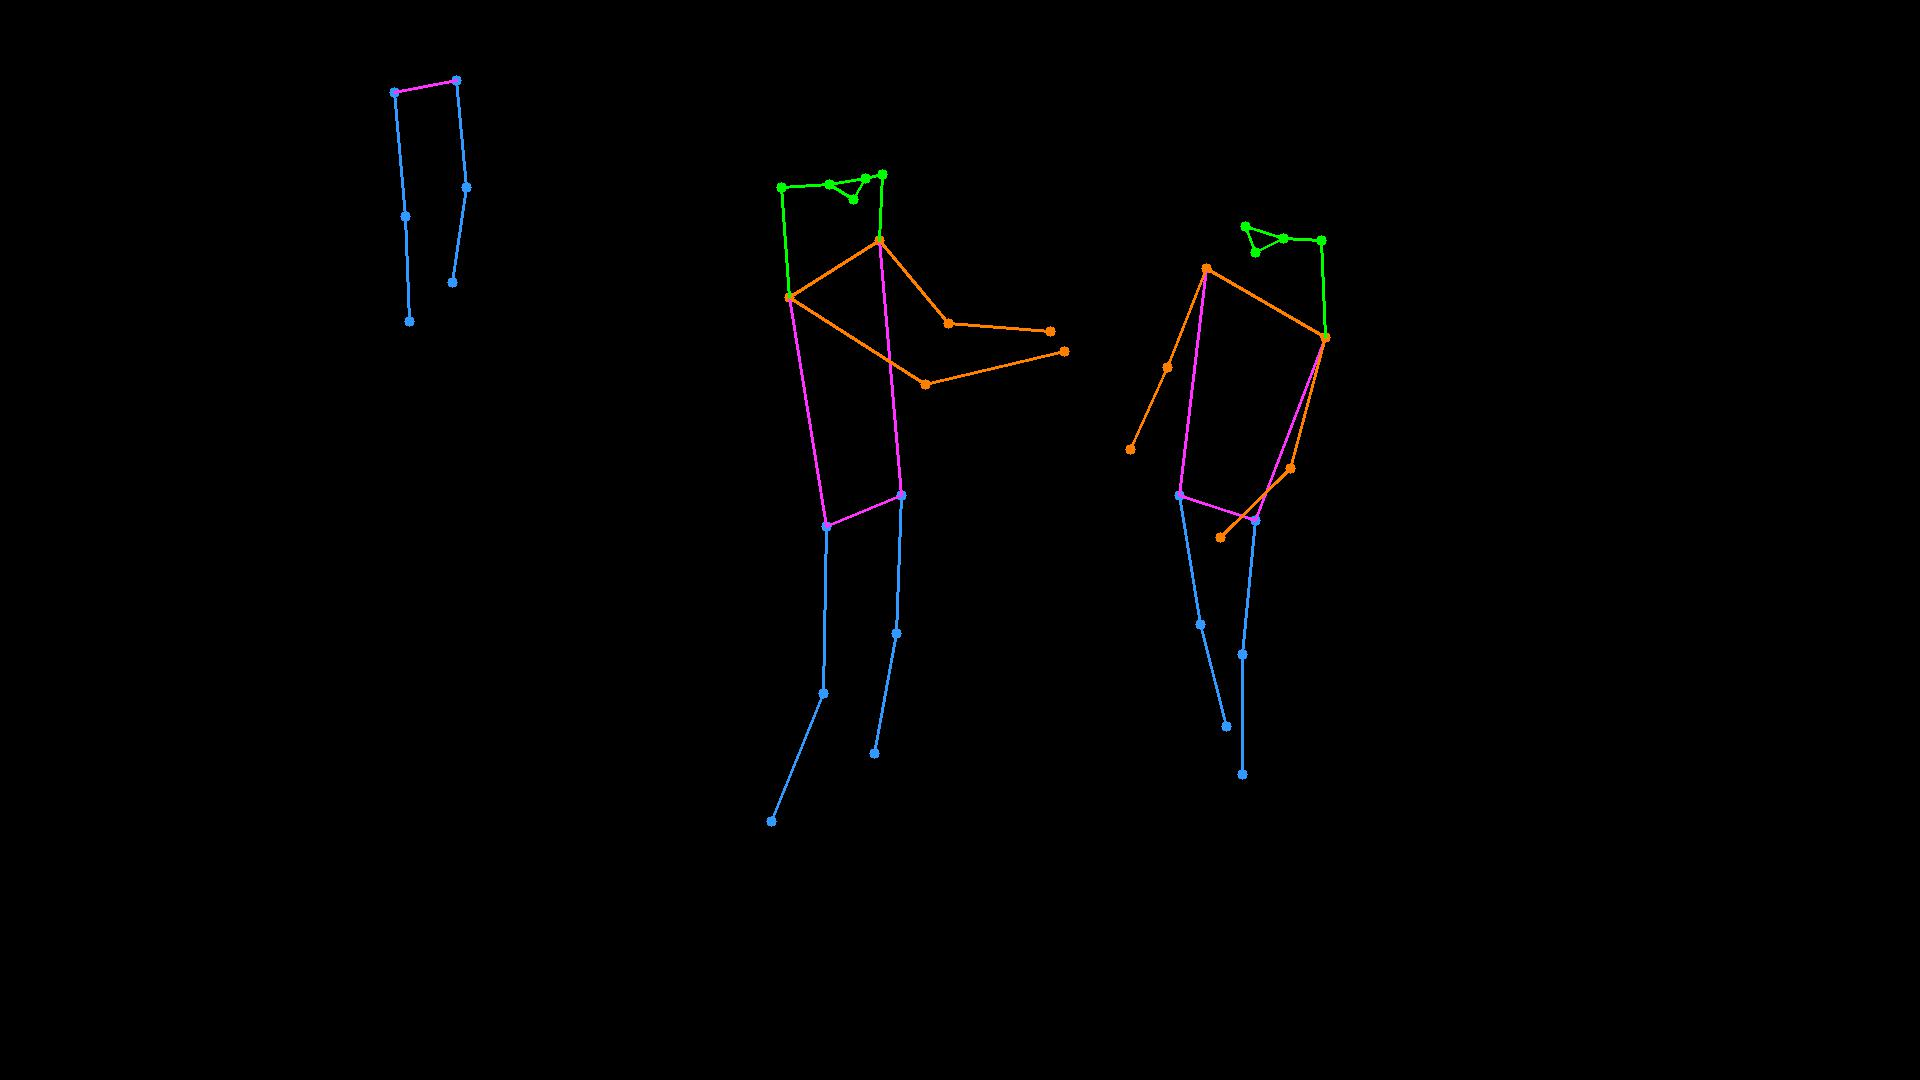normal: (683, 108, 1389, 909)
